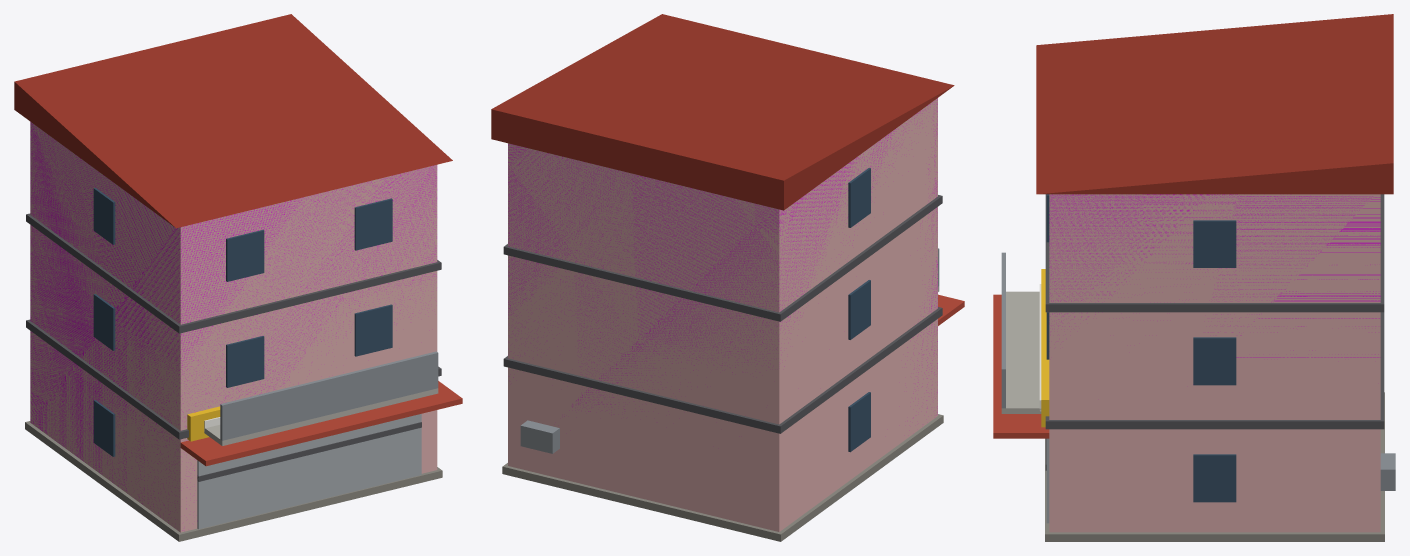
The model's file is MixedUse_3S_01.glb.
3 renders of one model, left to right at view 1: azimuth 30°, elevation 25°; view 2: azimuth 150°, elevation 25°; view 3: azimuth 270°, elevation 25°, orthographic. The views are drawn at different scales.
Parts seen in each view (by area): view 1: MixedUse_3S_01, MixedUse_3S_01_COL; view 2: MixedUse_3S_01, MixedUse_3S_01_COL; view 3: MixedUse_3S_01, MixedUse_3S_01_COL.
Part boxes in pixels (box(x1,y1,x2,y2)): MixedUse_3S_01: box(14, 14, 462, 541); MixedUse_3S_01_COL: box(30, 122, 437, 530); MixedUse_3S_01: box(491, 14, 964, 541); MixedUse_3S_01_COL: box(508, 98, 937, 417); MixedUse_3S_01: box(993, 14, 1395, 541); MixedUse_3S_01_COL: box(1049, 194, 1380, 357).
Bounding box in the file's own units: 8.2 × 9.8 × 9.35.
